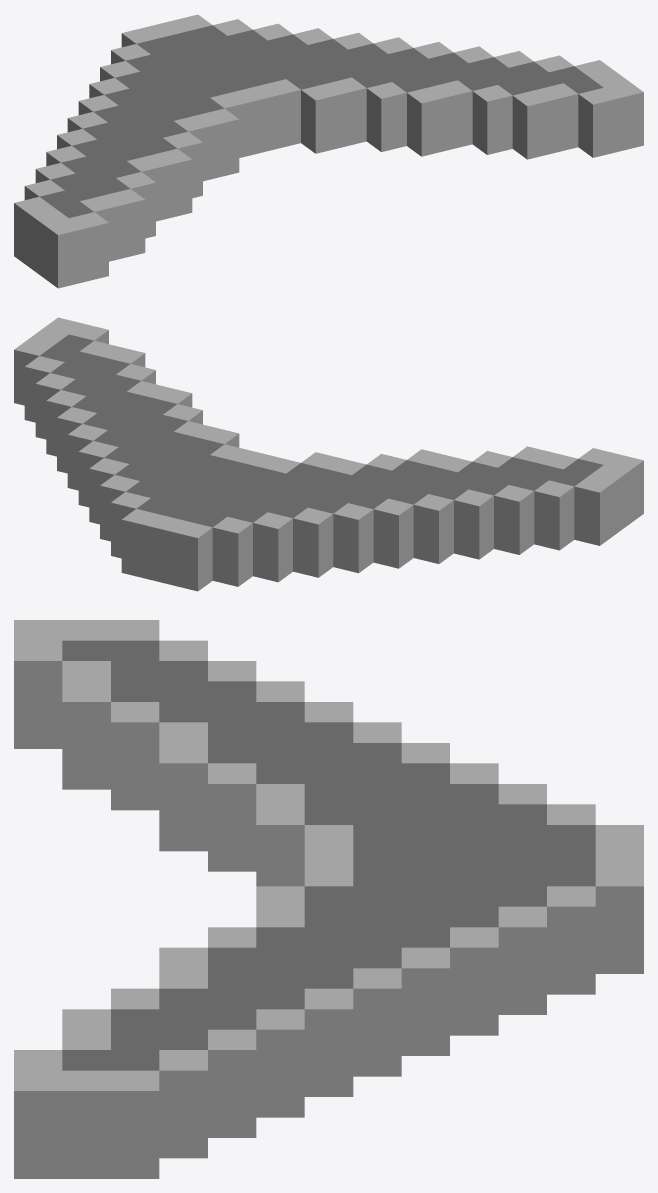
The model's file is Arrow 1.fbx.
3 renders of one model, top to bottom at view 1: azimuth 30°, elevation 25°; view 2: azimuth 150°, elevation 25°; view 3: azimuth 270°, elevation 25°, orthographic. The views are drawn at different scales.
Parts seen in each view (by area): view 1: Arrow; view 2: Arrow; view 3: Arrow.
Part boxes in pixels (<box>): Arrow: <box>14,14,643,288</box>; Arrow: <box>14,317,643,591</box>; Arrow: <box>14,620,643,1178</box>.
Size of the model in its own units: 2300 by 200 by 1300.
1 material, 1 textured.
